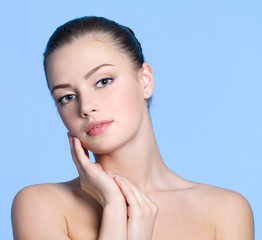teen: (42, 28, 150, 147)
